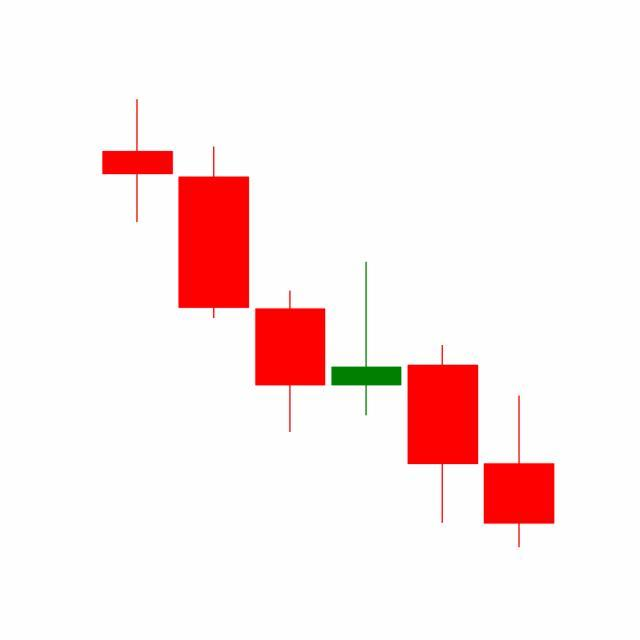Three Outside Up-Down: (326, 258, 555, 549)
